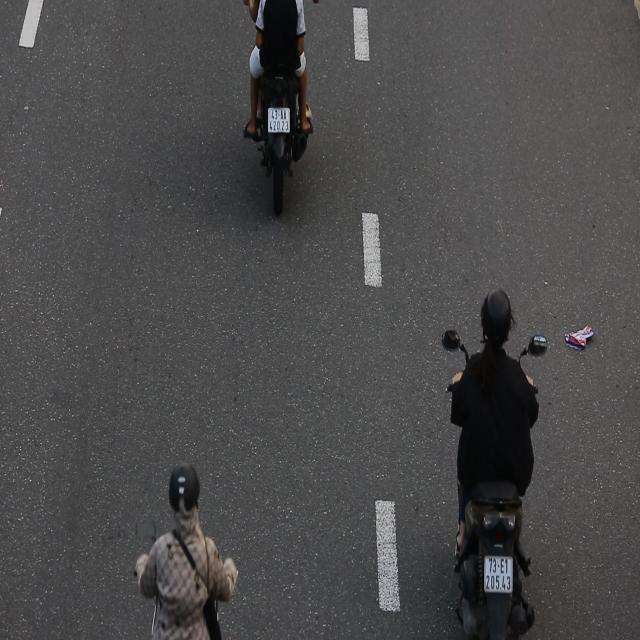motorbike: (437, 261, 551, 640)
